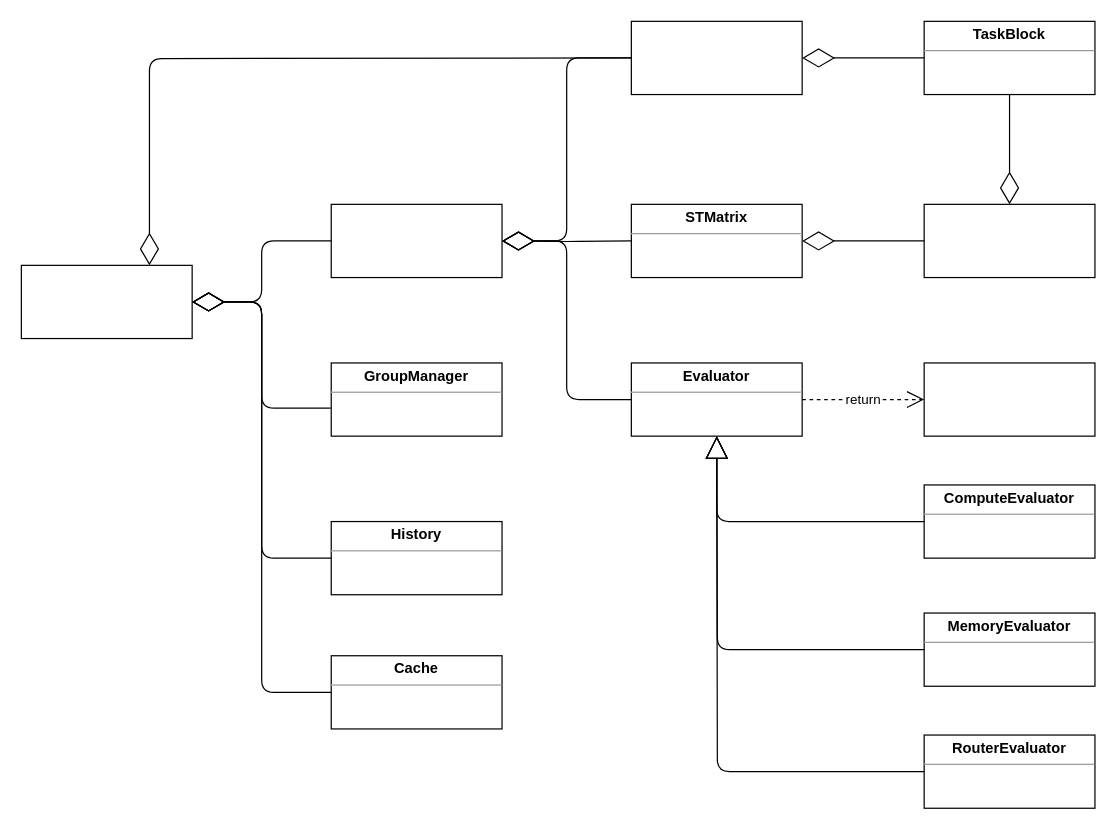
This 1116x830 diagram has some shape labels left out. Each missing label, with the centre of its shape:
Evaluation: (1009,399)
SpaceTimeEnv: (106,301)
SpaceTimeMapping: (416,240)
STColumn: (1009,240)
TaskGraph: (716,57)
